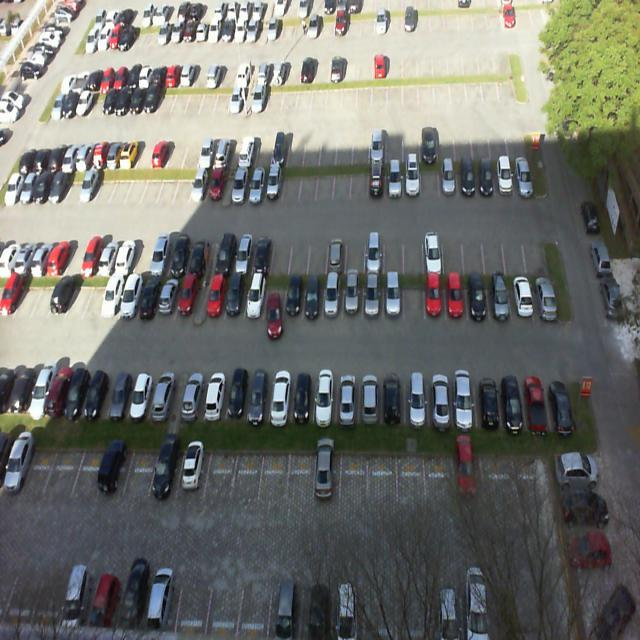space-empty: (123, 442, 158, 502), (71, 446, 106, 501), (43, 445, 78, 499), (231, 451, 264, 504), (204, 448, 238, 498), (21, 446, 55, 494), (259, 448, 290, 500), (288, 449, 314, 504), (483, 227, 507, 275), (443, 226, 466, 273), (130, 236, 156, 276), (155, 165, 178, 208), (525, 229, 548, 272), (505, 227, 526, 272), (139, 165, 162, 205), (287, 234, 310, 274), (404, 226, 424, 272), (404, 274, 424, 320), (172, 165, 193, 208), (382, 231, 404, 272), (464, 228, 484, 272), (307, 234, 328, 273), (345, 231, 364, 274), (268, 236, 290, 272), (299, 166, 317, 205), (283, 164, 300, 205), (422, 163, 440, 198), (333, 165, 350, 202), (316, 166, 332, 200), (351, 164, 367, 198)
space-occupied: (94, 445, 132, 502), (148, 444, 182, 500), (545, 370, 576, 426), (499, 373, 528, 432), (175, 445, 208, 496), (312, 451, 342, 507), (223, 370, 254, 424), (523, 371, 550, 428), (64, 367, 93, 420), (476, 372, 502, 429), (117, 271, 146, 322), (222, 272, 249, 326), (83, 371, 112, 421), (106, 371, 134, 422), (452, 374, 479, 426), (136, 267, 162, 320), (428, 375, 454, 428), (127, 370, 154, 420), (312, 372, 336, 428), (268, 373, 294, 424), (154, 274, 180, 324), (203, 370, 229, 420), (246, 372, 272, 422), (262, 270, 286, 324), (530, 270, 557, 318), (148, 374, 175, 422), (359, 371, 382, 426), (174, 272, 198, 324), (382, 371, 405, 424), (101, 270, 125, 320), (241, 275, 265, 325), (335, 373, 359, 423), (290, 372, 313, 424), (405, 374, 428, 426), (486, 273, 511, 320), (181, 373, 206, 418), (205, 273, 225, 327), (113, 238, 140, 276), (509, 276, 532, 320), (303, 276, 324, 324), (444, 277, 467, 320), (467, 275, 488, 322), (148, 237, 172, 278), (188, 164, 211, 206), (363, 276, 384, 322), (282, 276, 302, 324), (167, 238, 192, 276), (322, 277, 343, 322), (425, 229, 445, 276), (188, 239, 212, 278), (511, 156, 534, 196), (426, 276, 446, 322), (229, 238, 252, 277), (204, 166, 226, 206), (231, 164, 252, 205), (213, 239, 236, 276), (384, 276, 402, 322), (251, 235, 272, 272), (345, 275, 362, 320), (324, 235, 344, 273), (364, 235, 383, 273), (458, 162, 478, 198), (478, 158, 496, 198), (494, 160, 514, 195), (267, 166, 284, 207), (250, 166, 268, 204), (368, 162, 386, 200), (388, 162, 404, 200), (403, 163, 420, 198), (440, 162, 458, 195)
